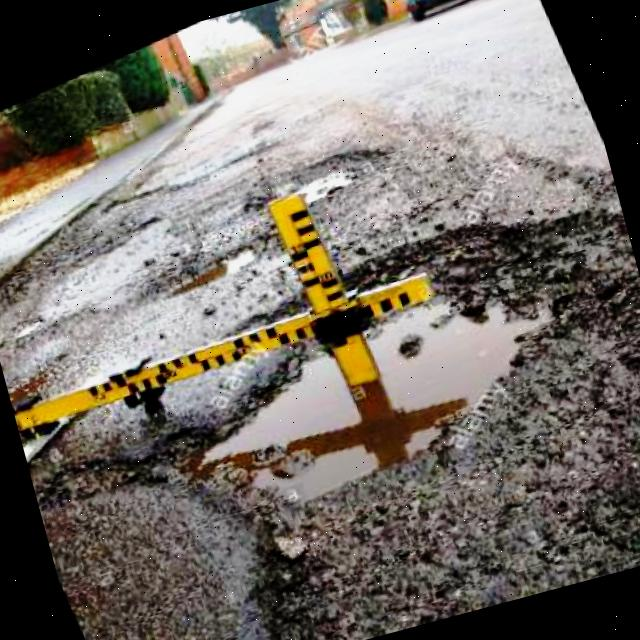pothole: (95, 177, 640, 640), (250, 131, 400, 225), (132, 230, 274, 310)
